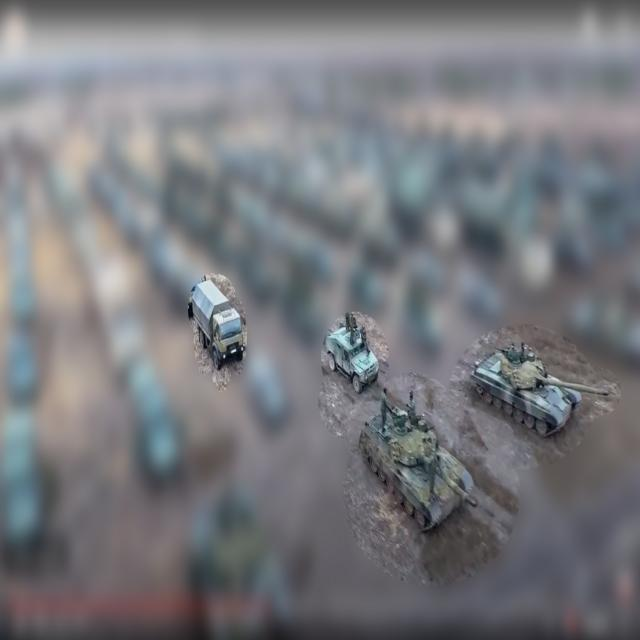tank: (356, 406, 477, 538), (468, 343, 611, 439)
